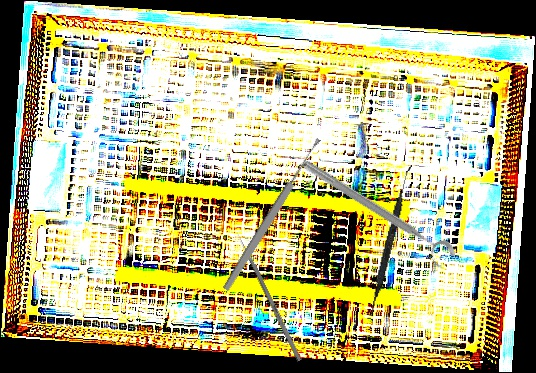Fixation Ring: (294, 154, 460, 274)
Pusher: (234, 231, 303, 362)
Spatula Surgical: (368, 163, 412, 318)
Surgical Spoon: (220, 136, 325, 293)
